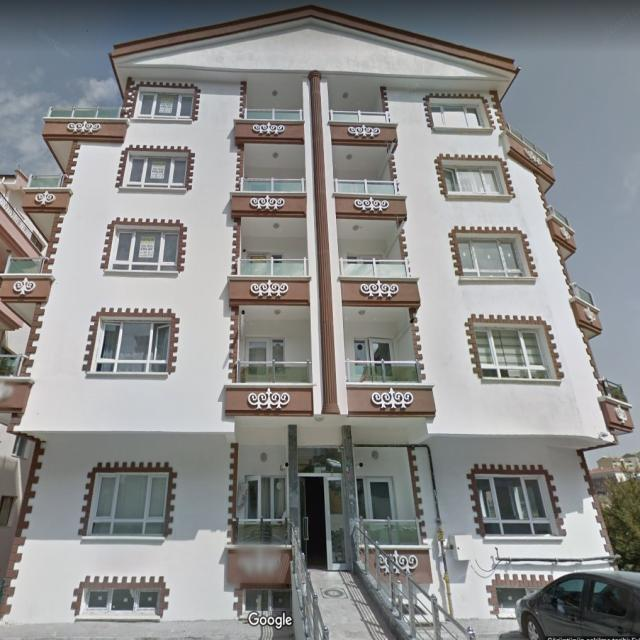Building: (0, 5, 628, 623)
